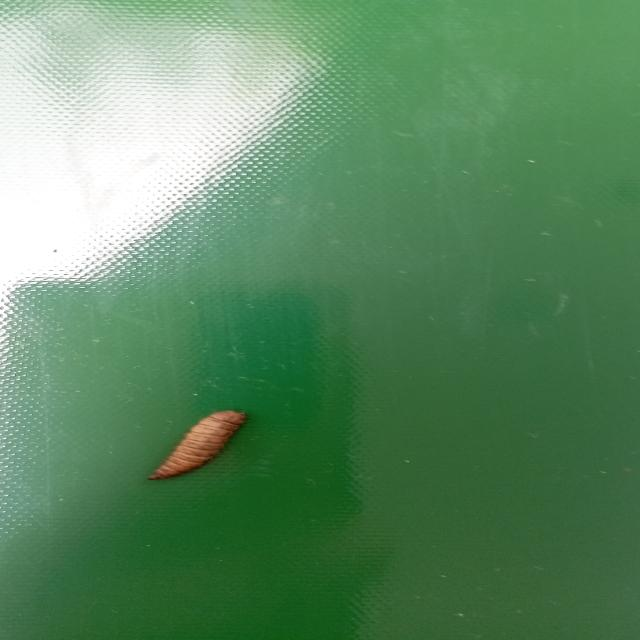Maggot: (153, 420, 237, 479)
